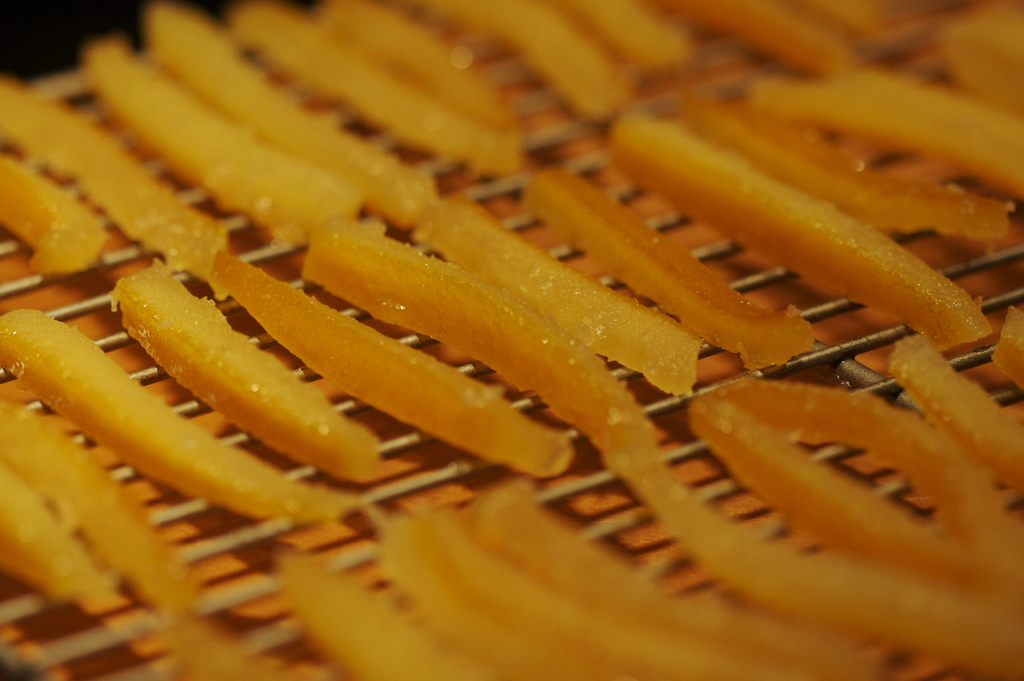French fries: (597, 108, 1001, 340), (312, 214, 660, 474), (646, 443, 1023, 680), (213, 251, 580, 477), (686, 390, 1023, 613), (482, 479, 851, 680), (0, 301, 327, 525), (104, 251, 389, 493), (387, 500, 757, 680), (149, 0, 435, 229), (424, 181, 702, 394), (85, 29, 353, 249), (526, 158, 808, 365), (704, 380, 1023, 550), (227, 0, 492, 195), (0, 69, 236, 271), (3, 389, 189, 618), (321, 0, 525, 151), (281, 542, 478, 680), (457, 0, 626, 123), (894, 330, 1018, 483), (0, 463, 122, 609), (670, 0, 852, 82), (0, 147, 100, 271), (572, 0, 673, 84), (183, 604, 285, 680), (988, 306, 1023, 392)
